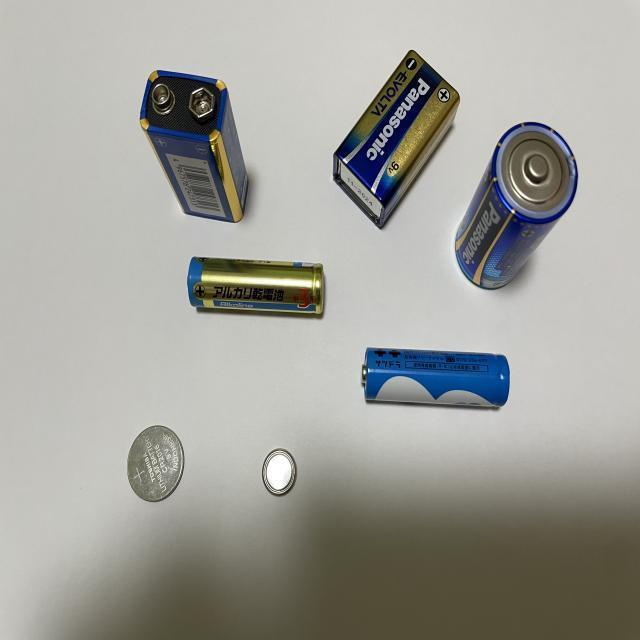9V: (331, 49, 462, 230), (139, 68, 250, 224)
